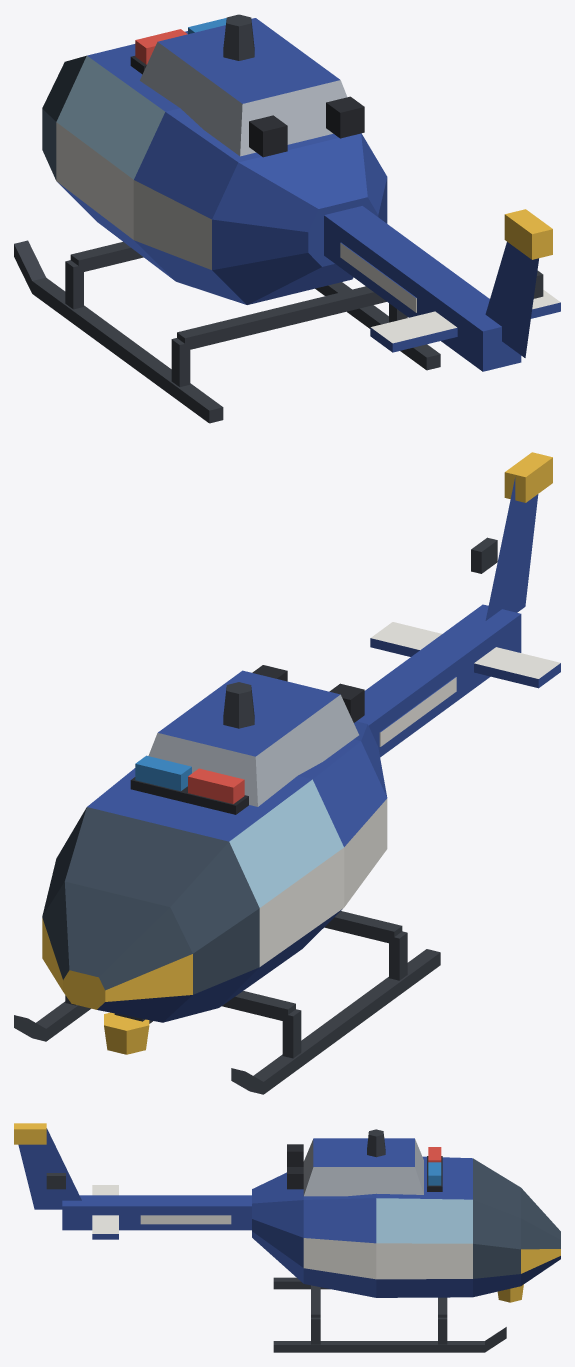
Rendered from V_PoliceHeli.fbx.
3 renders of one model, top to bottom at view 1: azimuth 30°, elevation 25°; view 2: azimuth 150°, elevation 25°; view 3: azimuth 270°, elevation 25°, orthographic. The views are drawn at different scales.
Visible parts, largest first — view 1: V_PoliceHeli; view 2: V_PoliceHeli; view 3: V_PoliceHeli.
Part boxes in pixels (<box>): V_PoliceHeli: <box>14,14,560,423</box>; V_PoliceHeli: <box>14,452,560,1094</box>; V_PoliceHeli: <box>14,1123,560,1352</box>.
Size of the model in its own units: 1.32 by 1.76 by 4.53.
